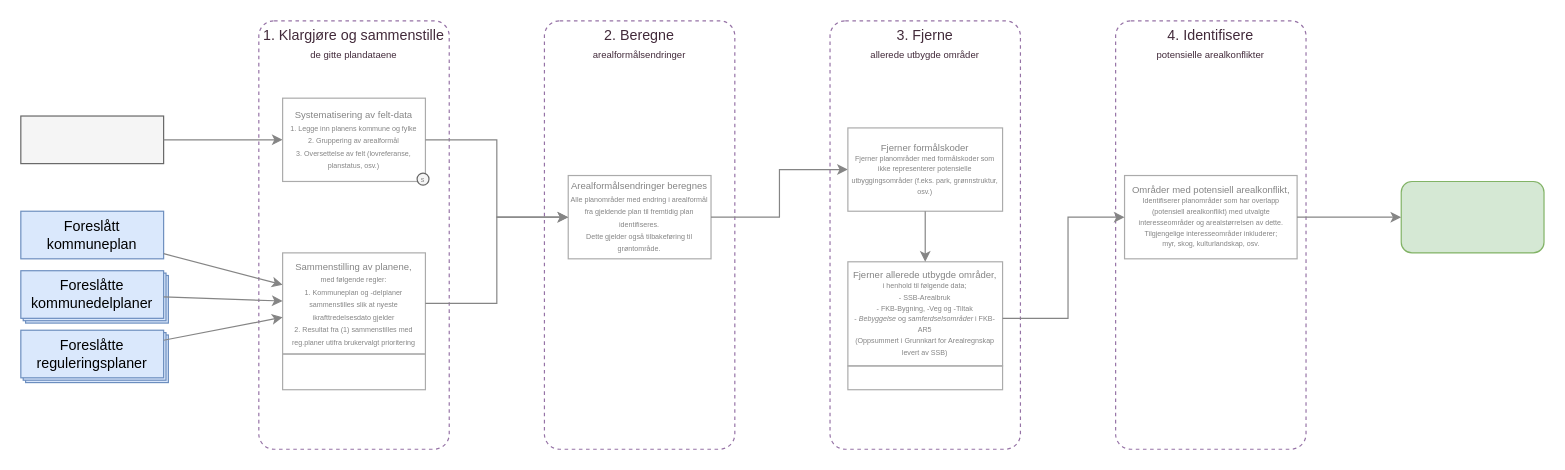
The diagram is 1565 pixels wide and 470 high, and some of its shapes have lost their labels. The shapes that lost their labels are listed below. From the top down, each one's box as (x1, y1, x2, y2) in pixels, then its label:
(20, 115, 164, 164): Gjeldende kommuneplan
(1400, 180, 1544, 253): Arealregnskap som fremstilles i kartet
(281, 353, 425, 390): Systematisering av felt-data samme prosedyre som (s)
(847, 365, 1003, 390): Fjerner områder mindre enn 100 m 2
